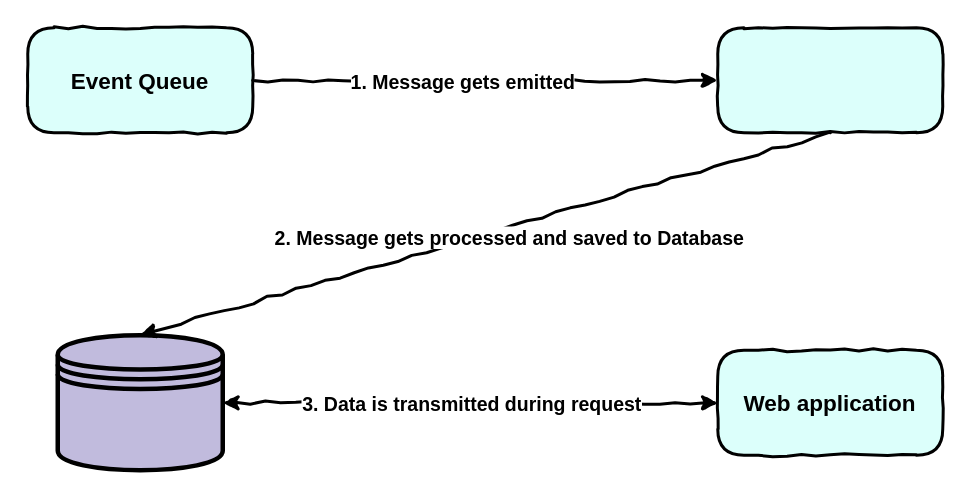
Image size: 969x498. Some labels were removed from this diagram. The shapes that lost their labels are listed below. From the top down, each one's centre as x and y in pixels, then its label:
point (830, 80): Event Consumer
point (139, 402): Database
